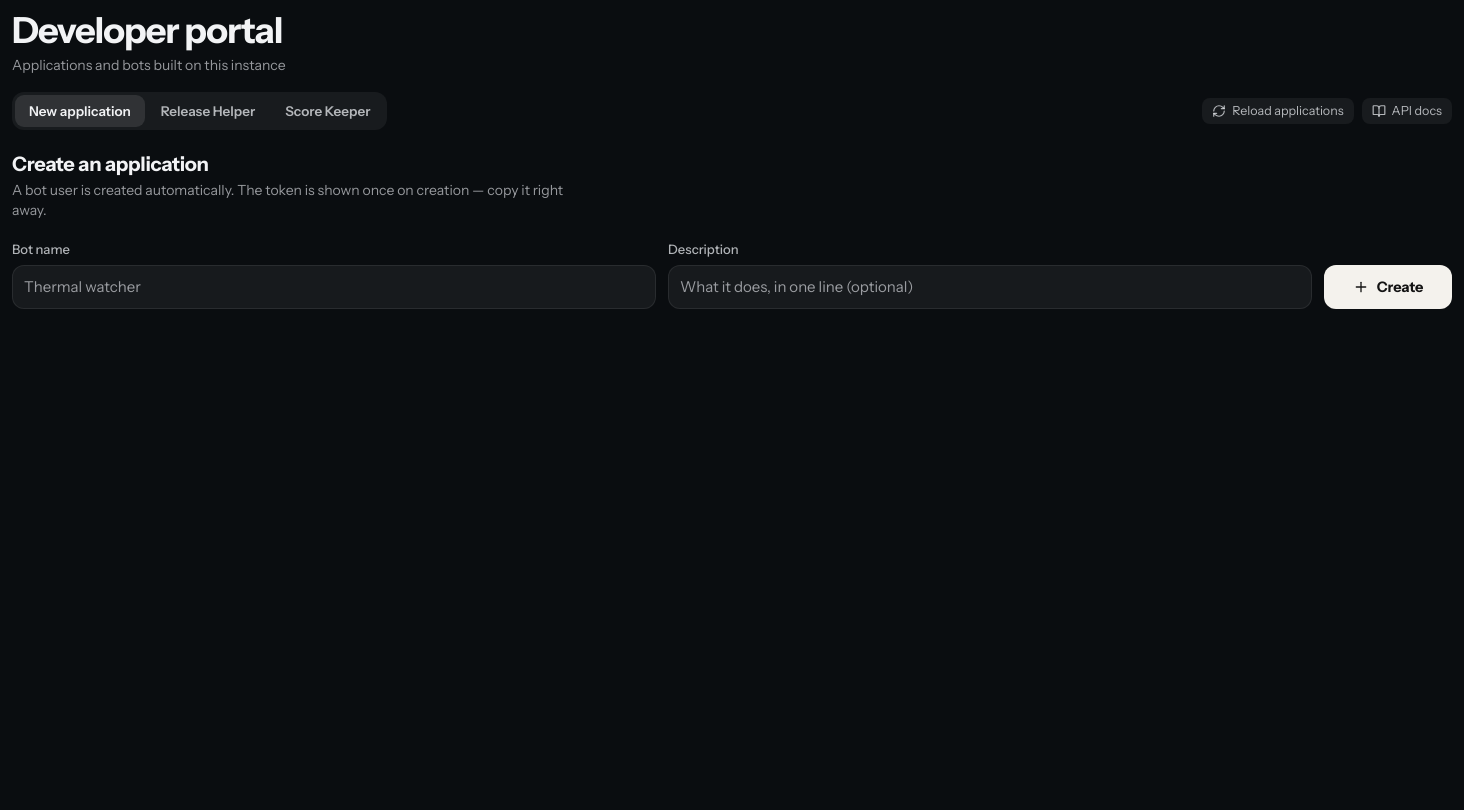
Test: DeveloperPage as a page in main › opens an application from its segment and shows its bot as an Avatar, not a colored icon
Click the tab "Score Keeper" at (328, 111), box top-left (271, 95), bottom-right (384, 127)
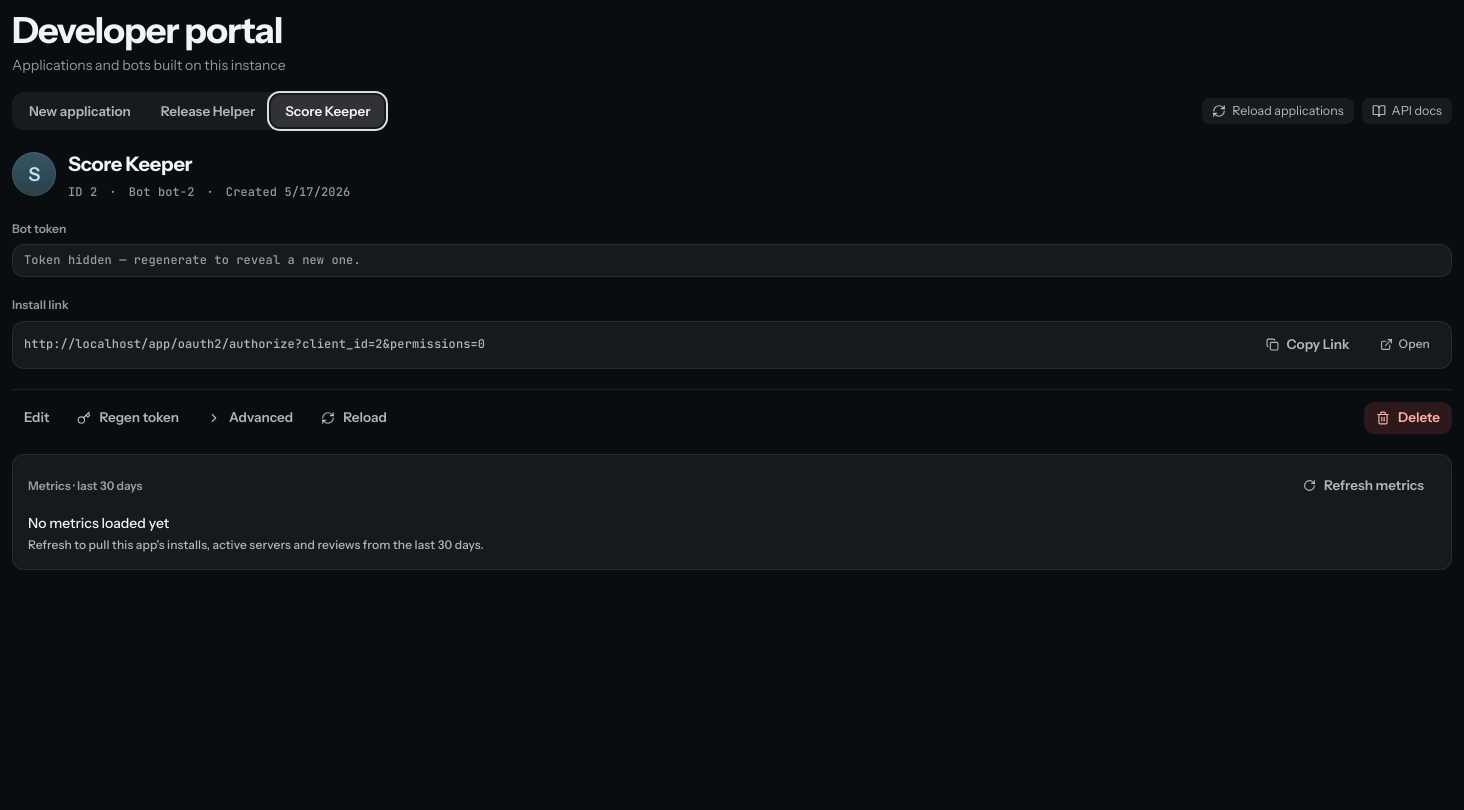
Expected: the heading "Score Keeper" is shown, top-left (68, 152), bottom-right (192, 176)
Expected: the text with class "ix-av" reads "S", top-left (28, 162), bottom-right (40, 186)
